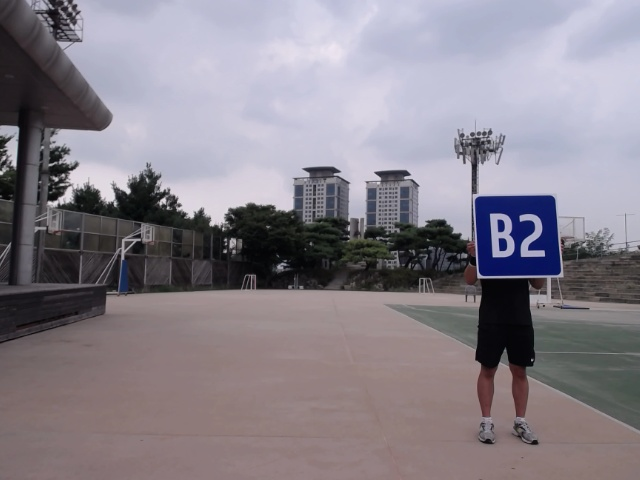delivery_b2: (475, 194, 563, 278)
